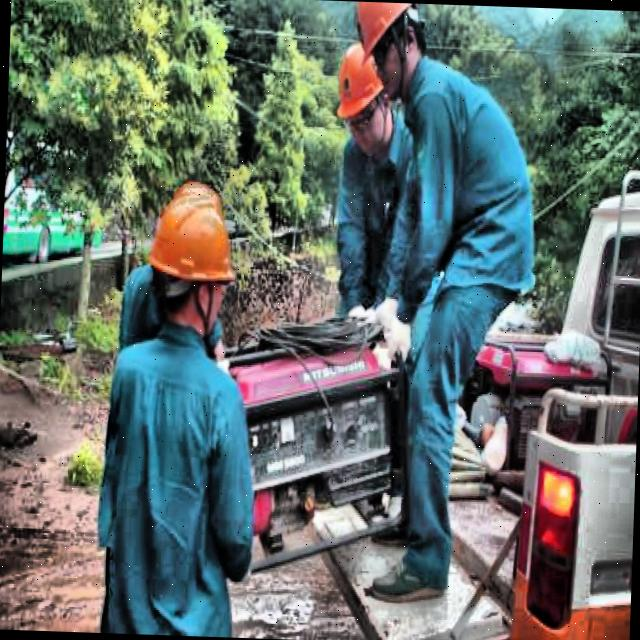helmet: (136, 163, 246, 347), (347, 3, 432, 108), (332, 39, 388, 152)
